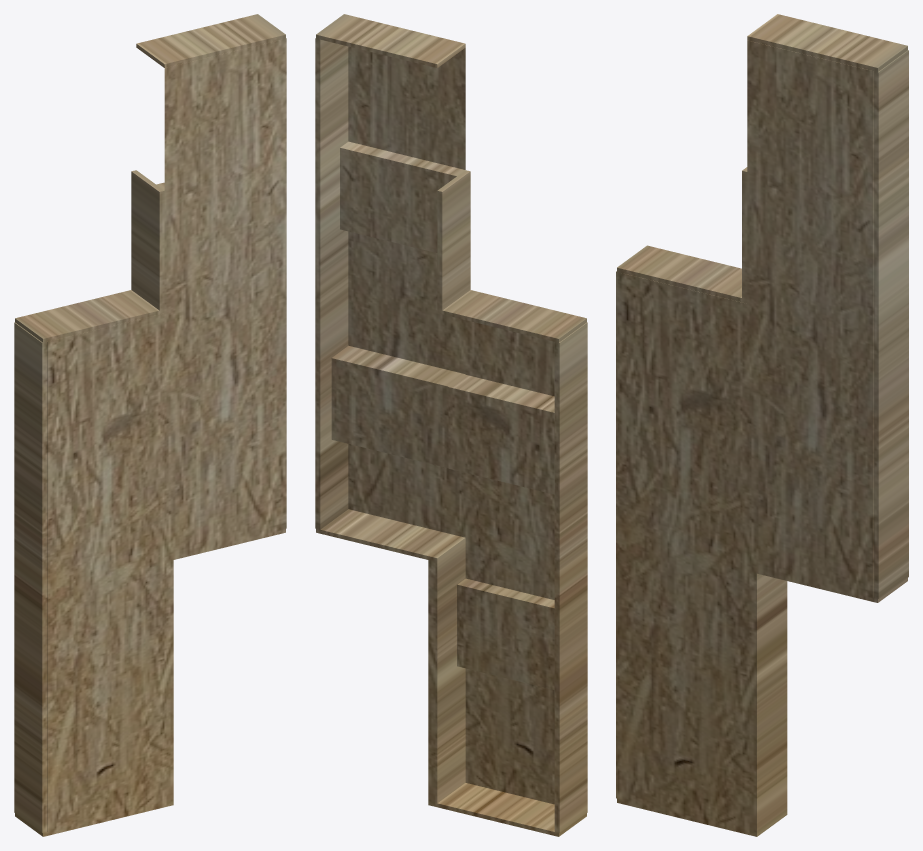
File: hurdles.dae
3 renders of one model, left to right at view 1: azimuth 30°, elevation 25°; view 2: azimuth 150°, elevation 25°; view 3: azimuth 330°, elevation 25°, orthographic. The views are drawn at different scales.
Parts seen in each view (by area): view 1: Hurdles; view 2: Hurdles; view 3: Hurdles.
Boxes of the visible parts, box(x1,y1,x2,y2) form: Hurdles: box(14, 14, 286, 836); Hurdles: box(315, 14, 587, 836); Hurdles: box(616, 14, 908, 836).
Size of the model in its own units: 25.05 by 5.02 by 72.77.
Materials: 1 (1 with a texture image).
